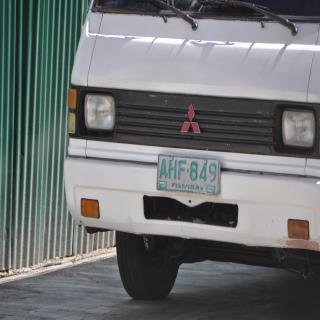license: (158, 155, 221, 197)
